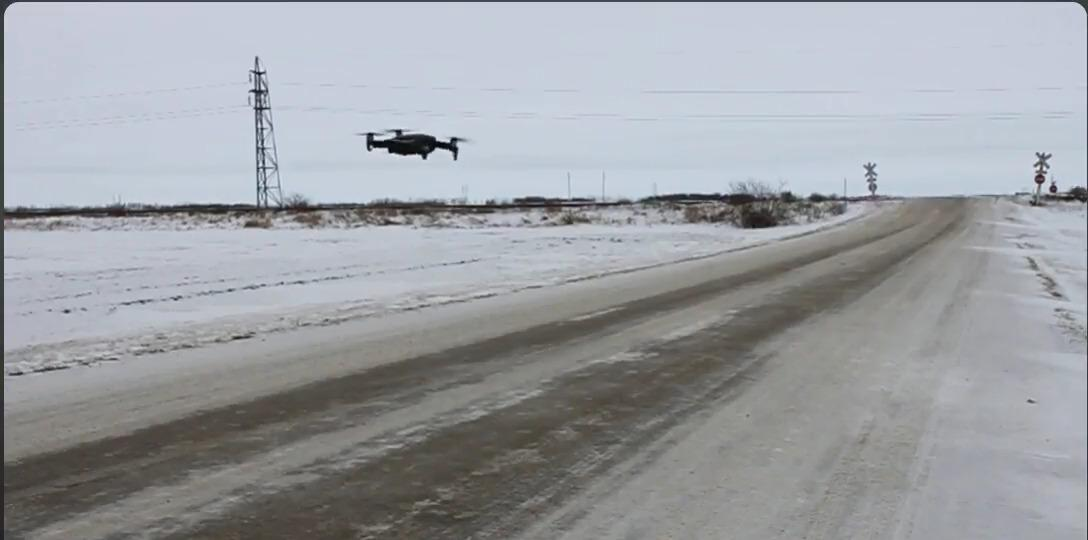dr: (353, 84, 485, 192)
